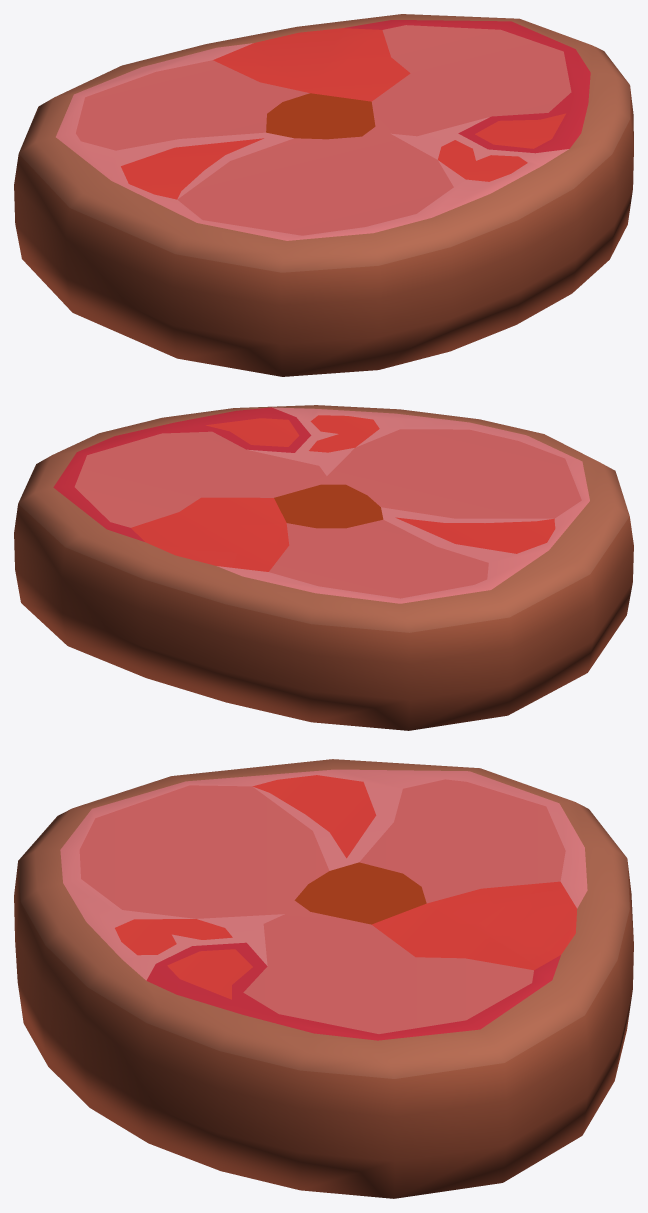
Rendered from lamb_002.fbx.
3 renders of one model, top to bottom at view 1: azimuth 30°, elevation 25°; view 2: azimuth 150°, elevation 25°; view 3: azimuth 270°, elevation 25°, orthographic. The views are drawn at different scales.
Visible parts, largest first — view 1: lamb_002; view 2: lamb_002; view 3: lamb_002.
Boxes of the visible parts, bbox=[...] form: lamb_002: bbox=[14, 14, 633, 376]; lamb_002: bbox=[14, 405, 633, 730]; lamb_002: bbox=[14, 759, 633, 1198].
Bounding box in the file's own units: 18.39 × 15.09 × 3.75.
